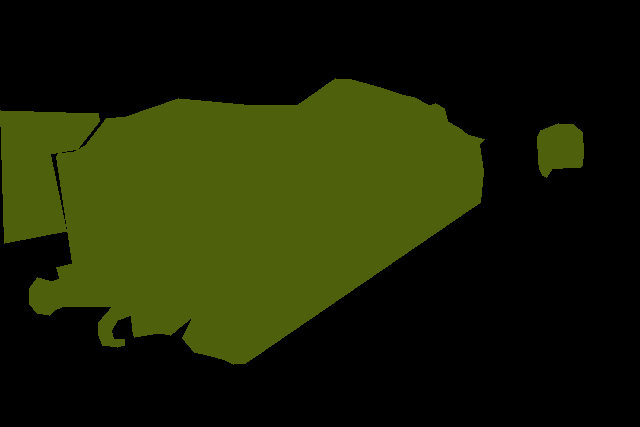Train: (29, 78, 484, 365), (0, 110, 99, 244), (537, 123, 583, 177)
